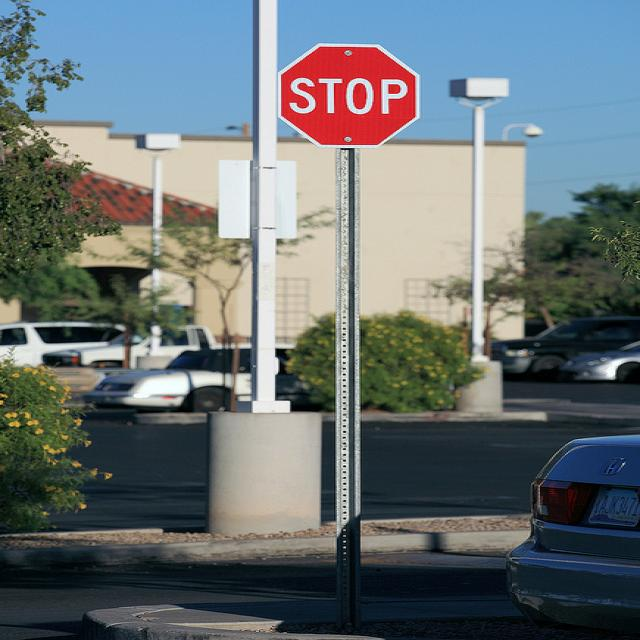Vehicle: (504, 433, 640, 637), (80, 342, 308, 410), (41, 325, 296, 368), (488, 314, 640, 378), (1, 322, 127, 367), (559, 341, 640, 385)
